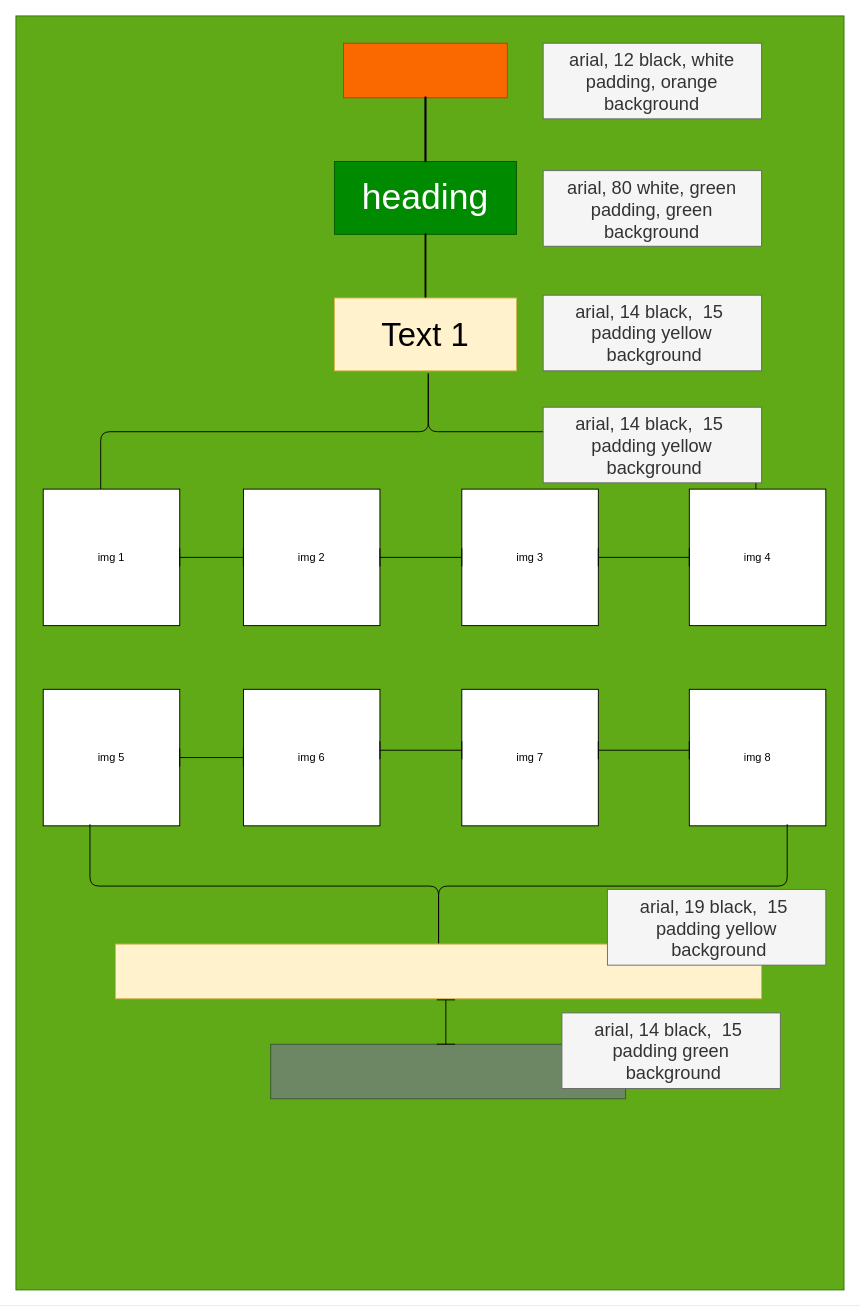
The diagram is 860 pixels wide and 1306 high, and some of its shapes have lost their labels. The centre of each missing label's shape, as x and y in pixels:
"footer" belongs at (x=448, y=1071).
"NAVBAR" belongs at (x=425, y=70).
"Text 2" belongs at (x=438, y=971).
